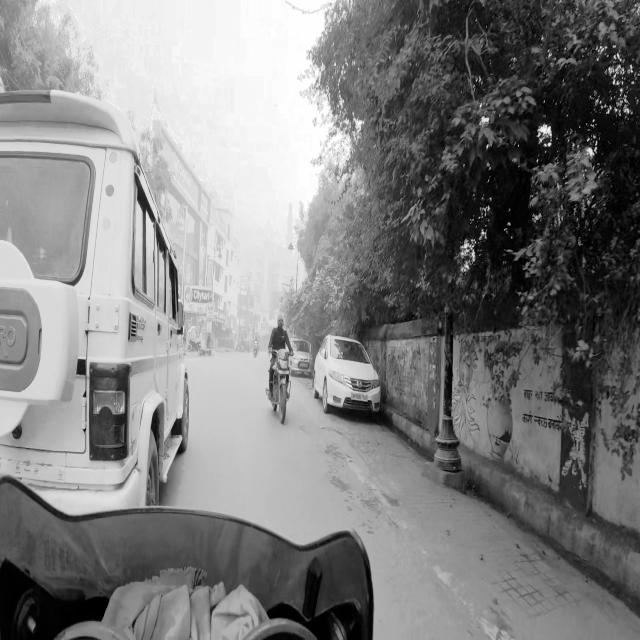Bike: (264, 300, 299, 425)
Car: (0, 73, 195, 492), (314, 324, 386, 425)
